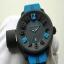watch: (16, 10, 55, 54)
